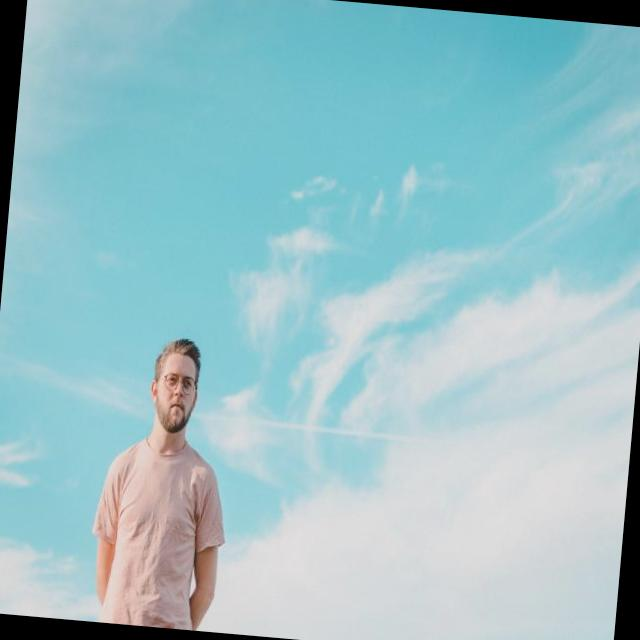person: (84, 330, 243, 632)
